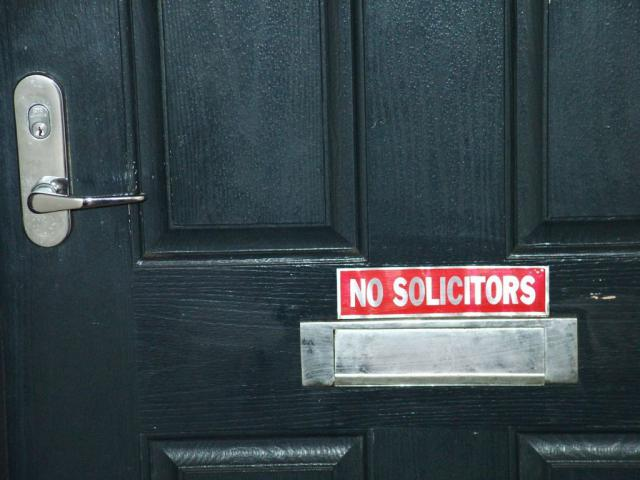Door-handle: (10, 69, 145, 250)
